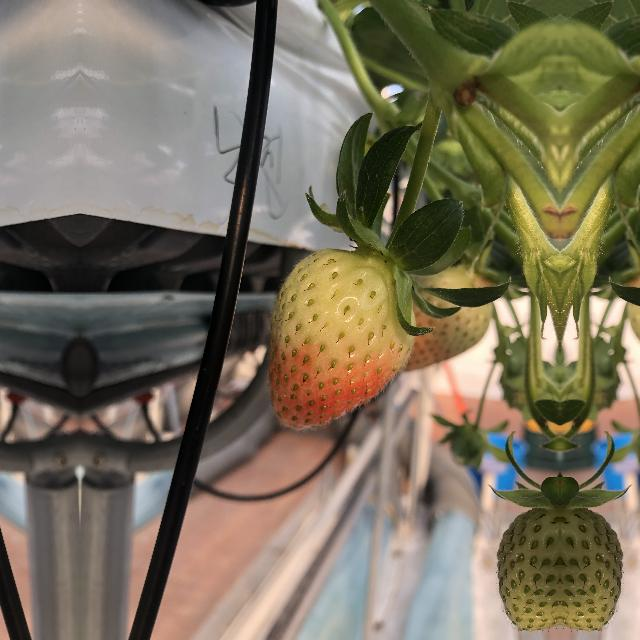Health_25: (492, 500, 560, 638), (560, 500, 628, 638)
Health_50: (262, 234, 420, 434)
